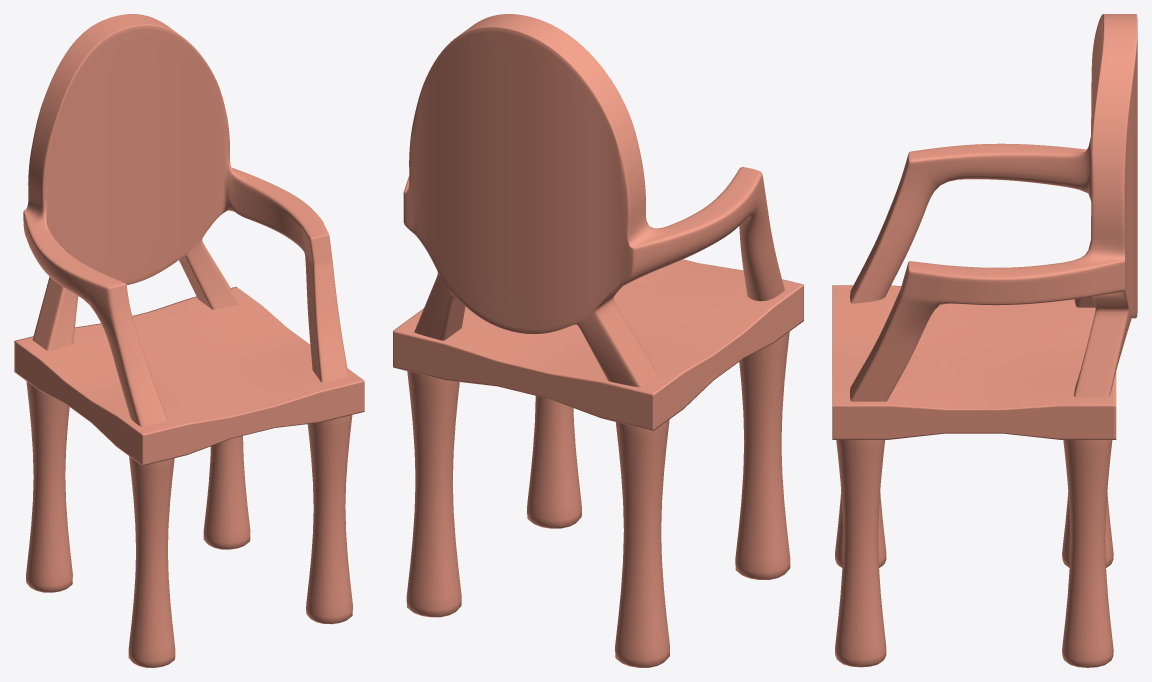
File: fri_11_oct_2019_160358.glb
3 views of the same model, side by side, from view 1: azimuth 30°, elevation 25°; view 2: azimuth 150°, elevation 25°; view 3: azimuth 270°, elevation 25° (orthographic). The views are drawn at different scales.
Parts seen in each view (by area): view 1: Object_2; view 2: Object_2; view 3: Object_2.
Part boxes in pixels (<box>): Object_2: <box>14,14,364,667</box>; Object_2: <box>393,14,803,667</box>; Object_2: <box>832,14,1137,667</box>.
Bounding box in the file's own units: 1.04 × 2.11 × 0.9915.
